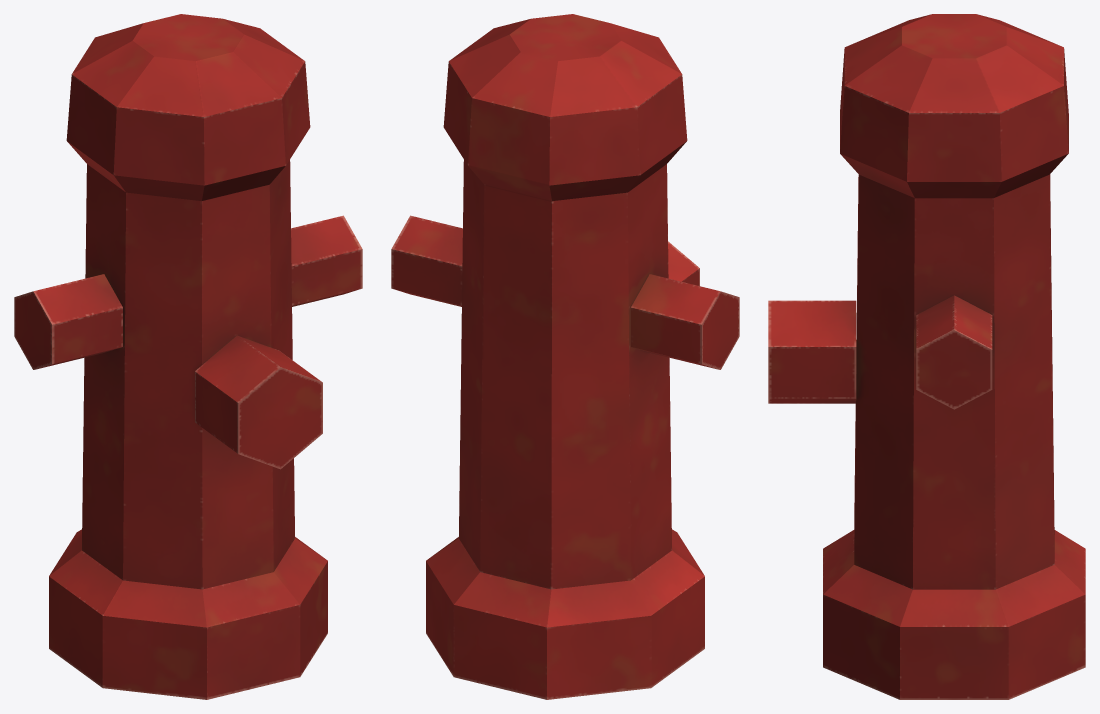
The model's file is Hidrante.glb.
3 renders of one model, left to right at view 1: azimuth 30°, elevation 25°; view 2: azimuth 150°, elevation 25°; view 3: azimuth 270°, elevation 25°, orthographic.
Parts seen in each view (by area): view 1: Hidrante; view 2: Hidrante; view 3: Hidrante.
Boxes of the visible parts, x1,y1,x2,y2 form: Hidrante: [14, 14, 362, 699]; Hidrante: [391, 14, 739, 699]; Hidrante: [768, 14, 1085, 699].
Size of the model in its own units: 1.4 by 2.6 by 1.23.
1 material, 1 textured.
